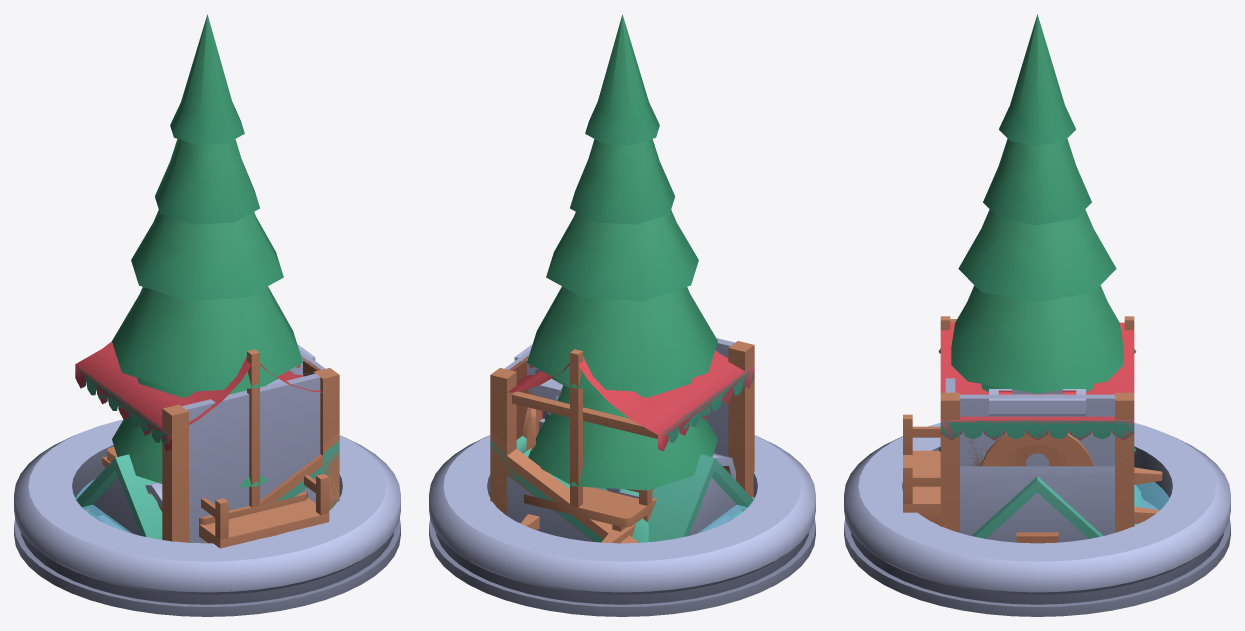
Rendered from village_kit.glb.
The picture shows the model from 3 angles, left to right: view 1: azimuth 30°, elevation 25°; view 2: azimuth 150°, elevation 25°; view 3: azimuth 270°, elevation 25°; orthographic projection.
Visible parts, largest first — view 1: fountain-round, tree-high, wall-corner, stall-red, cart, roof-gable, tree, roof-right, stall-green, wall-window-shutters, roof-left, wall-wood-window-round; view 2: tree-high, fountain-round, stall-red, tree, roof-gable, wall-corner, roof-left, roof-corner, wall-window-shutters, wall-wood-window-round, stall-green, roof-right (+2 smaller); view 3: fountain-round, tree-high, roof, wall-corner, stall-red, cart, wall-door, stall-green, wall-window-round, wall, roof-gable, roof-corner (+5 smaller).
Boxes of the visible parts, x1,y1,x2,y2 form: fountain-round: (14, 419, 400, 616); tree-high: (112, 14, 302, 392); wall-corner: (162, 349, 339, 543); stall-red: (75, 341, 322, 524); cart: (102, 456, 329, 548); roof-gable: (76, 454, 162, 539); tree: (112, 377, 278, 487); roof-right: (204, 432, 339, 543); stall-green: (75, 365, 171, 450); wall-window-shutters: (300, 351, 339, 455); roof-left: (276, 440, 339, 510); wall-wood-window-round: (301, 355, 331, 443); tree-high: (527, 14, 717, 392); fountain-round: (429, 435, 815, 616); stall-red: (507, 349, 754, 531); tree: (528, 377, 717, 490); roof-gable: (648, 454, 753, 541); wall-corner: (490, 338, 754, 498); roof-left: (490, 432, 638, 543); roof-corner: (507, 475, 593, 541); wall-window-shutters: (490, 368, 540, 455); wall-wood-window-round: (490, 355, 532, 439); stall-green: (658, 365, 754, 450); roof-right: (490, 441, 603, 542); fountain-round: (844, 423, 1230, 616); tree-high: (938, 14, 1136, 393); roof: (960, 466, 1114, 542); wall-corner: (940, 319, 1134, 532); stall-red: (940, 316, 1134, 440); cart: (903, 414, 1162, 525); wall-door: (960, 398, 1114, 466); stall-green: (940, 420, 1134, 439); wall-window-round: (960, 398, 1114, 466); wall: (940, 392, 1134, 466); roof-gable: (972, 476, 1140, 538); roof-corner: (998, 490, 1114, 542).
Bounding box in the file's own units: 2 × 3.02 × 2.
2 materials, 1 textured.
